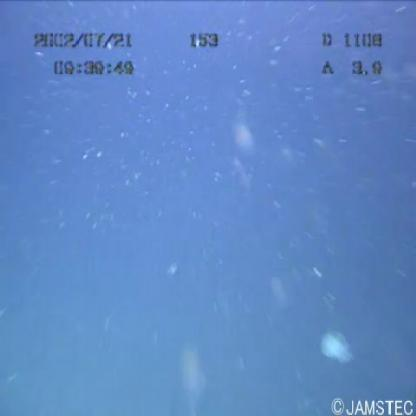Rác: (309, 327, 359, 367)
